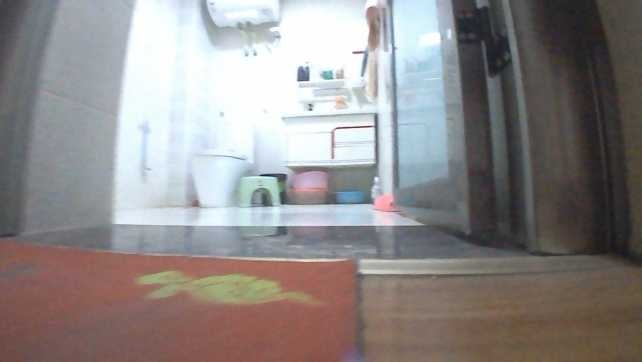blanket: (0, 223, 366, 361)
door_anno: (366, 0, 514, 244)
door_sill: (351, 249, 625, 280)
plastic_stool: (238, 172, 285, 210)
toilet: (187, 120, 248, 212)
